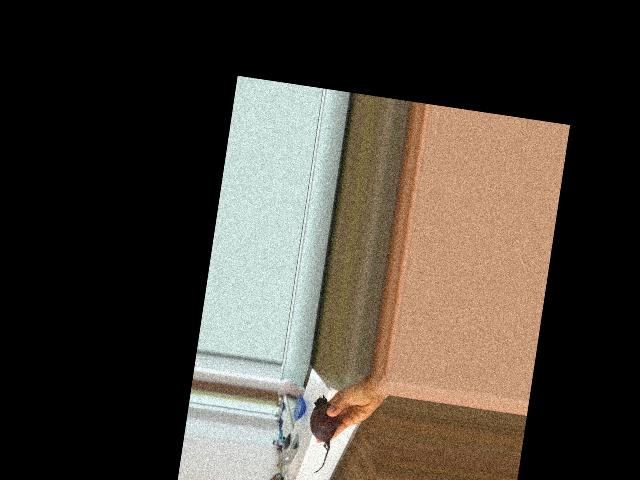beet: (302, 394, 341, 475)
